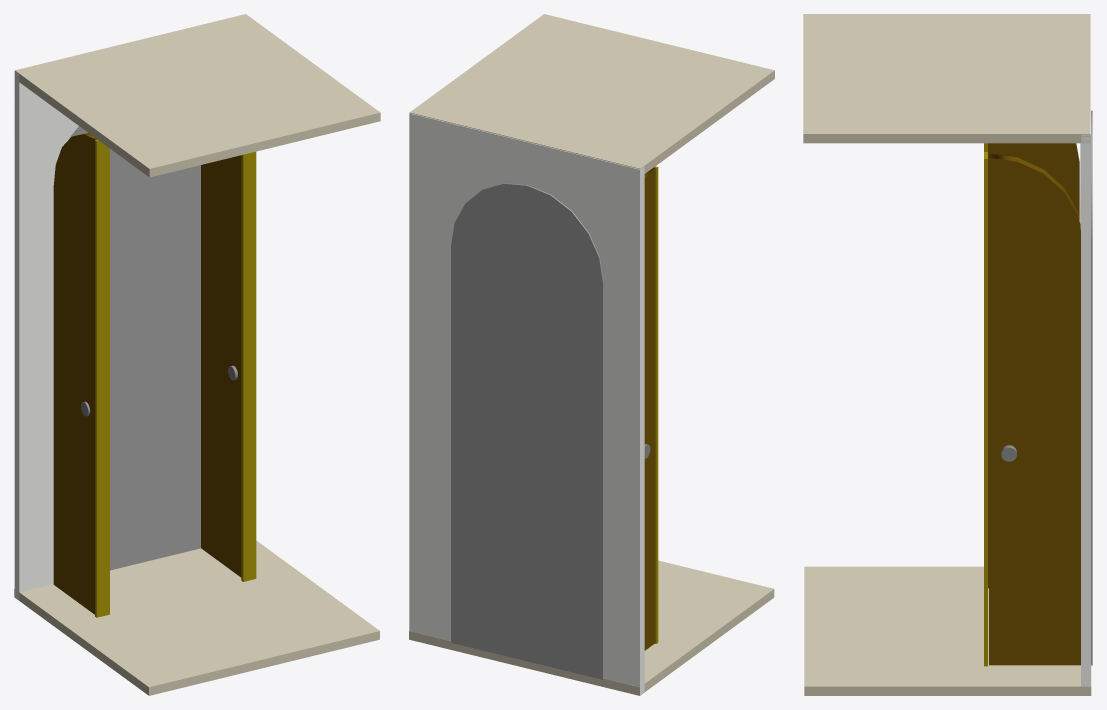
Rendered from Wall_Open_Door.fbx.
3 views of the same model, side by side, from view 1: azimuth 30°, elevation 25°; view 2: azimuth 150°, elevation 25°; view 3: azimuth 270°, elevation 25° (orthographic). The views are drawn at different scales.
Parts seen in each view (by area): view 1: Wall_One_Door_Open_polySurface1; view 2: Wall_One_Door_Open_polySurface1; view 3: Wall_One_Door_Open_polySurface1.
Boxes of the visible parts, x1,y1,x2,y2 form: Wall_One_Door_Open_polySurface1: [14, 14, 380, 695]; Wall_One_Door_Open_polySurface1: [409, 14, 774, 695]; Wall_One_Door_Open_polySurface1: [803, 14, 1092, 695].
Bounding box in the file's own units: 176 × 384 × 179.
